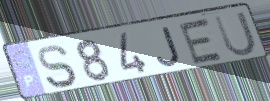4: (119, 30, 149, 76)
8: (75, 37, 113, 83)
E: (177, 16, 226, 66)
J: (155, 25, 183, 68)
S: (35, 43, 79, 90)
U: (212, 10, 259, 59)
